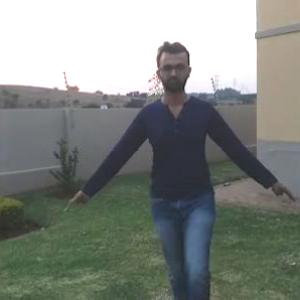land: (106, 61, 266, 275)
